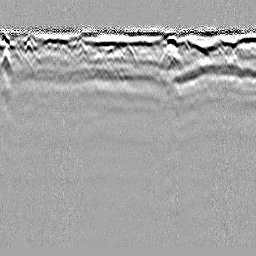cavity: (119, 42, 139, 63)
